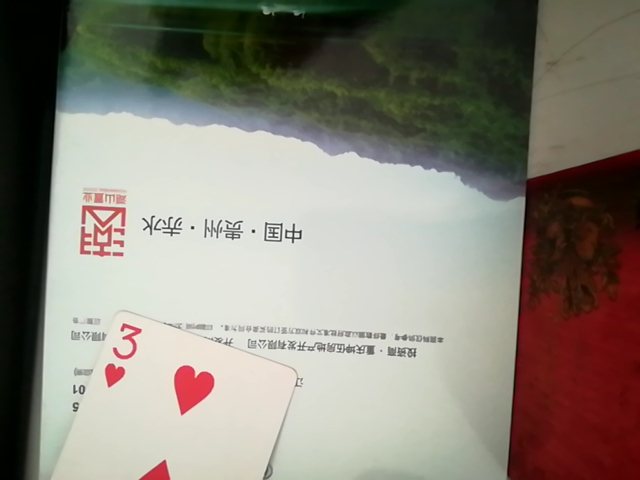hx 3: (53, 318, 303, 480)
